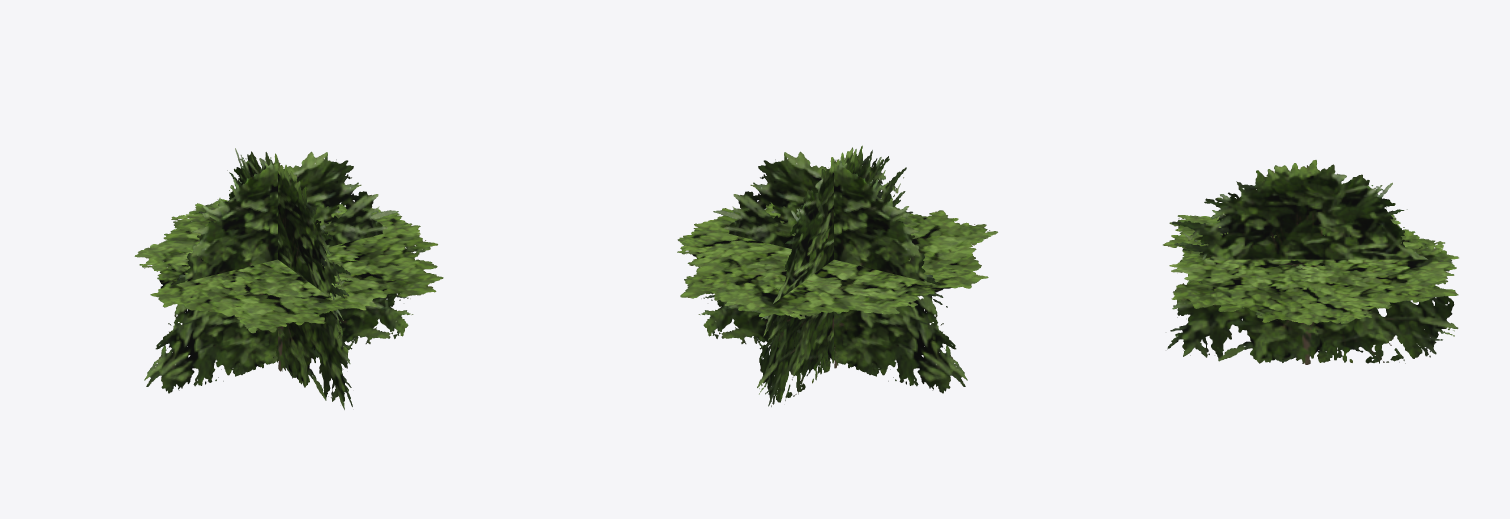
The model's file is far.glb.
3 renders of one model, left to right at view 1: azimuth 30°, elevation 25°; view 2: azimuth 150°, elevation 25°; view 3: azimuth 270°, elevation 25°, orthographic. The views are drawn at different scales.
Visible parts, largest first — view 1: far; view 2: far; view 3: far.
Part boxes in pixels (x1,y1,x2,y2): far: (134,148,443,409); far: (677,145,997,406); far: (1163,160,1458,364).
Size of the model in its own units: 15.1 by 15.1 by 15.1.
Materials: 2 (2 with a texture image).
